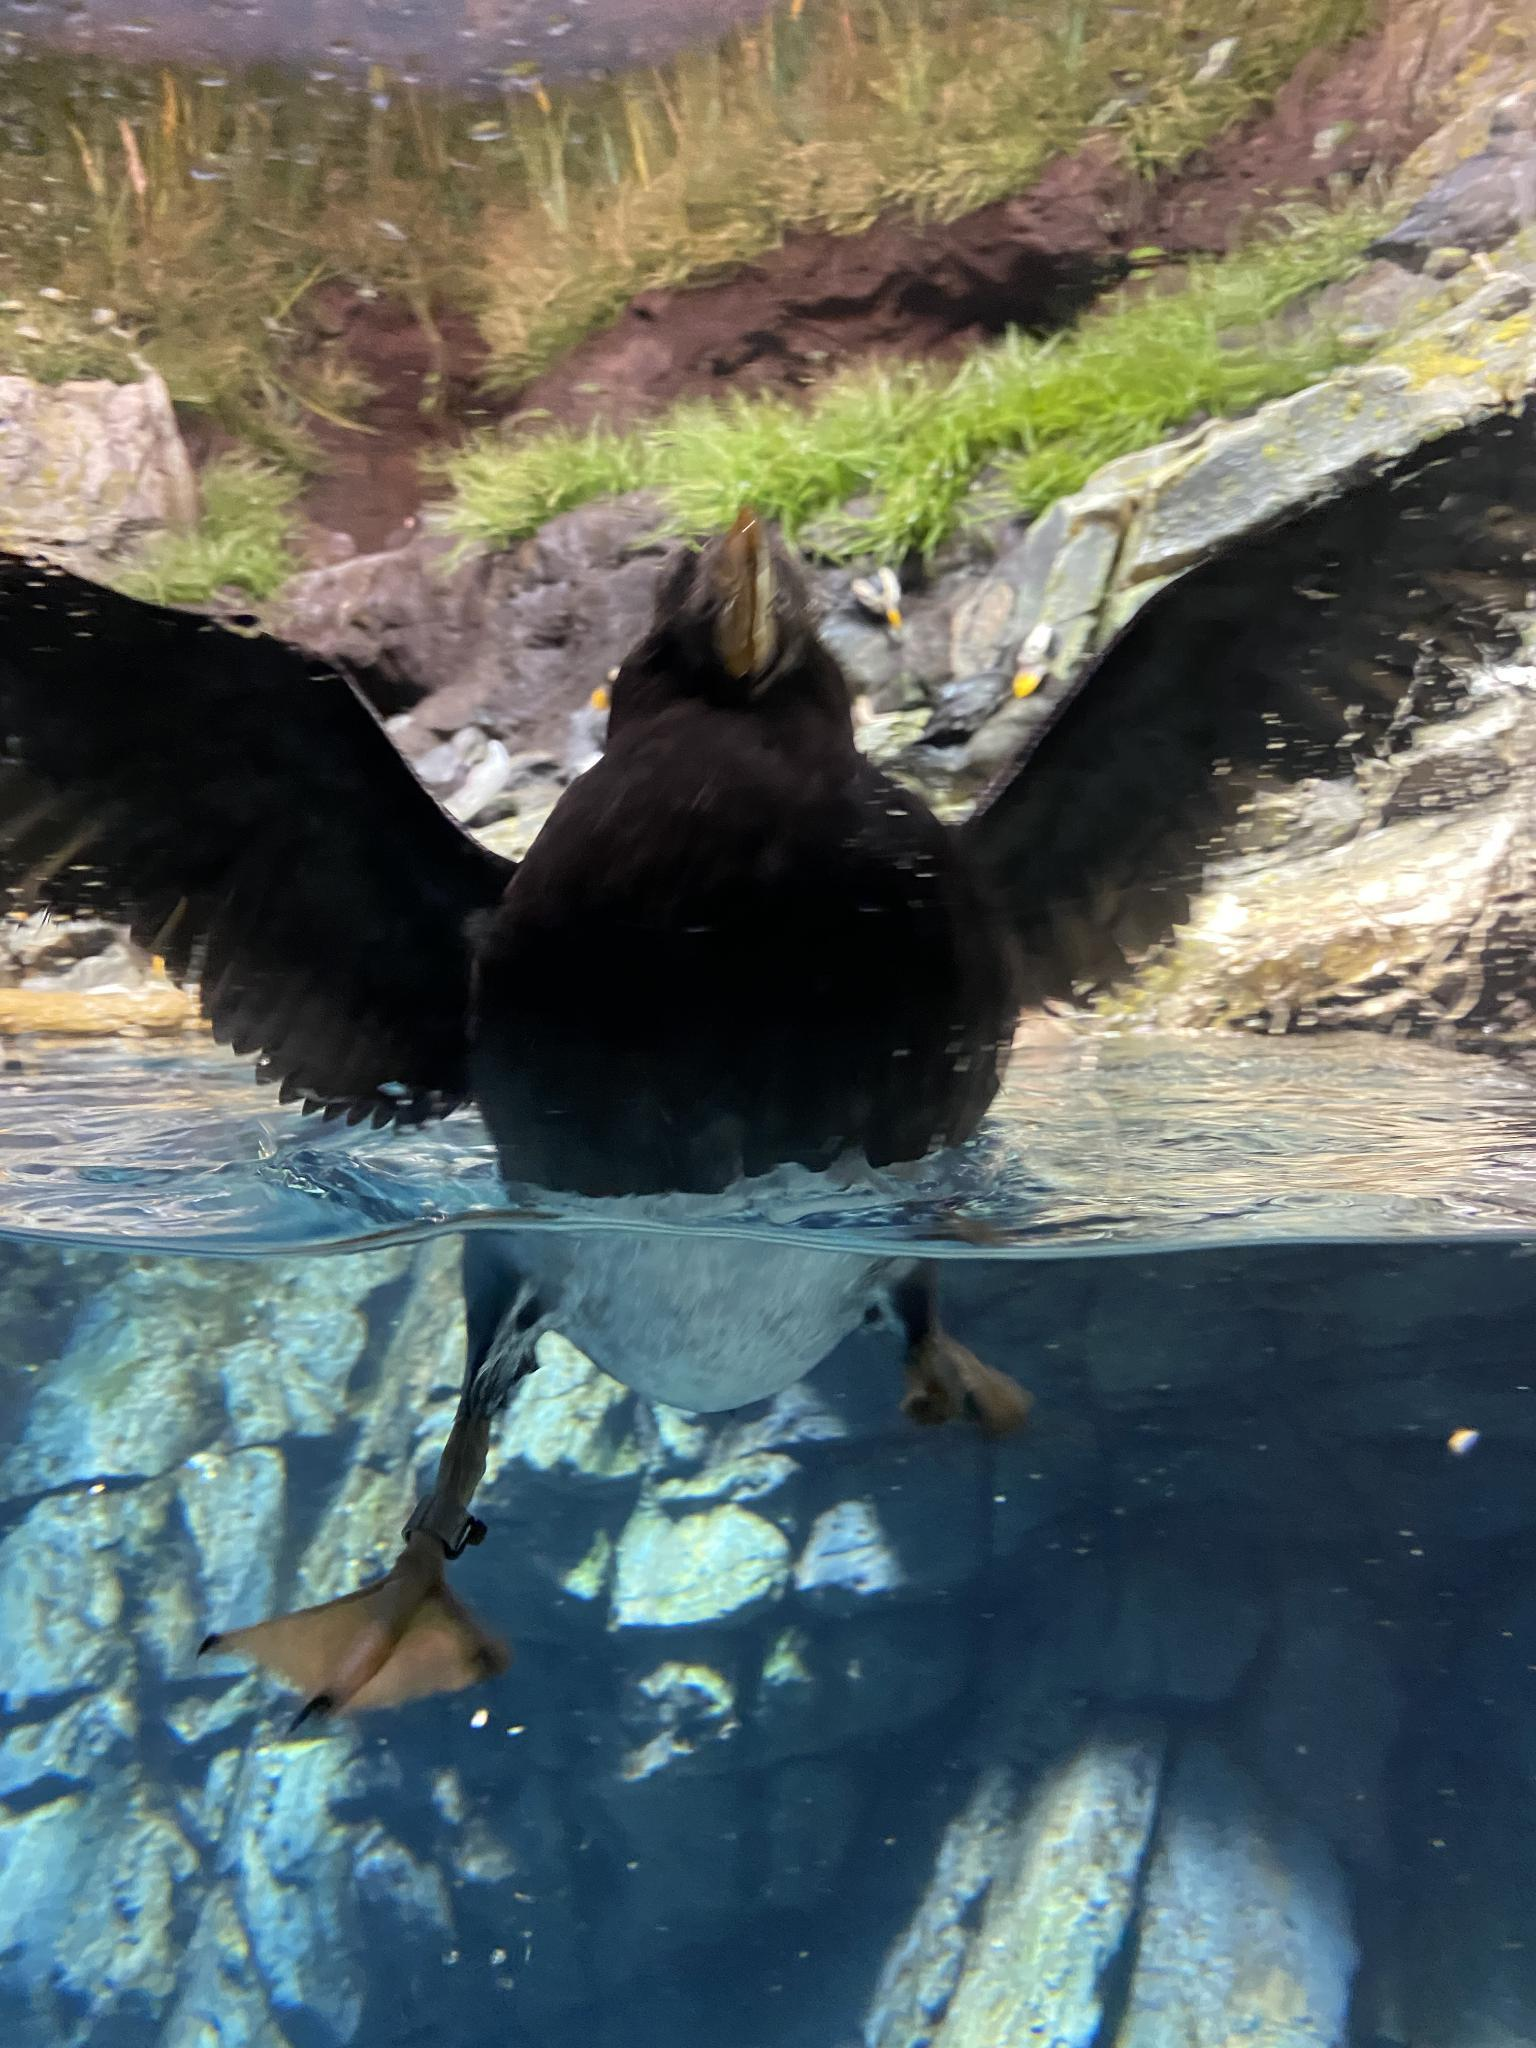puffin: (0, 411, 1534, 1721), (920, 601, 1065, 779), (808, 543, 928, 714)
